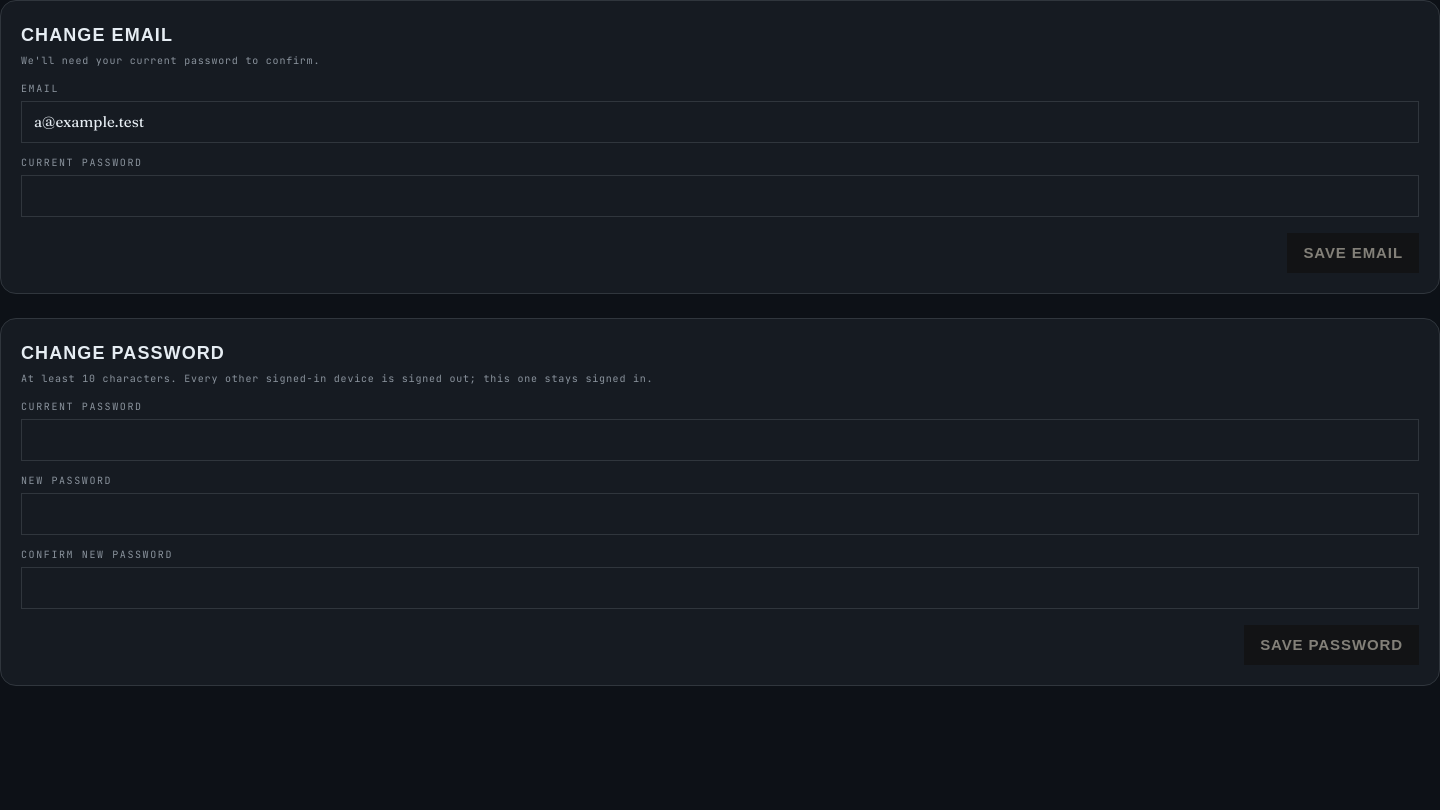
the replacement bearer is consumed › does not swap a token when the change itself failed
Type "old-password" into the password field labelled "CURRENT PASSWORD" below "Change password" at point(720, 440), box [21,419,1419,461]
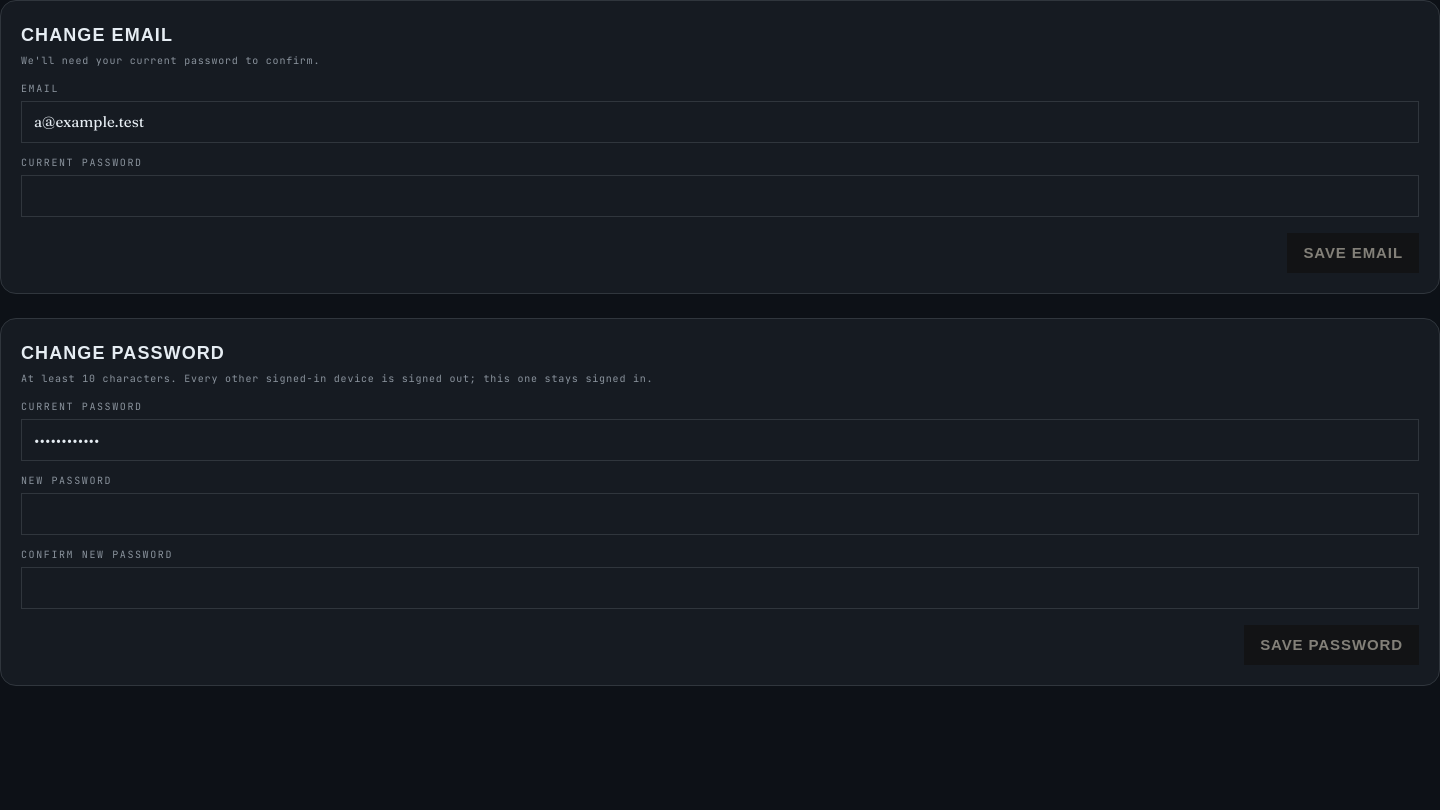
Type "a-new-password-10" into the password field labelled "NEW PASSWORD" at point(720, 514), box [21,493,1419,535]
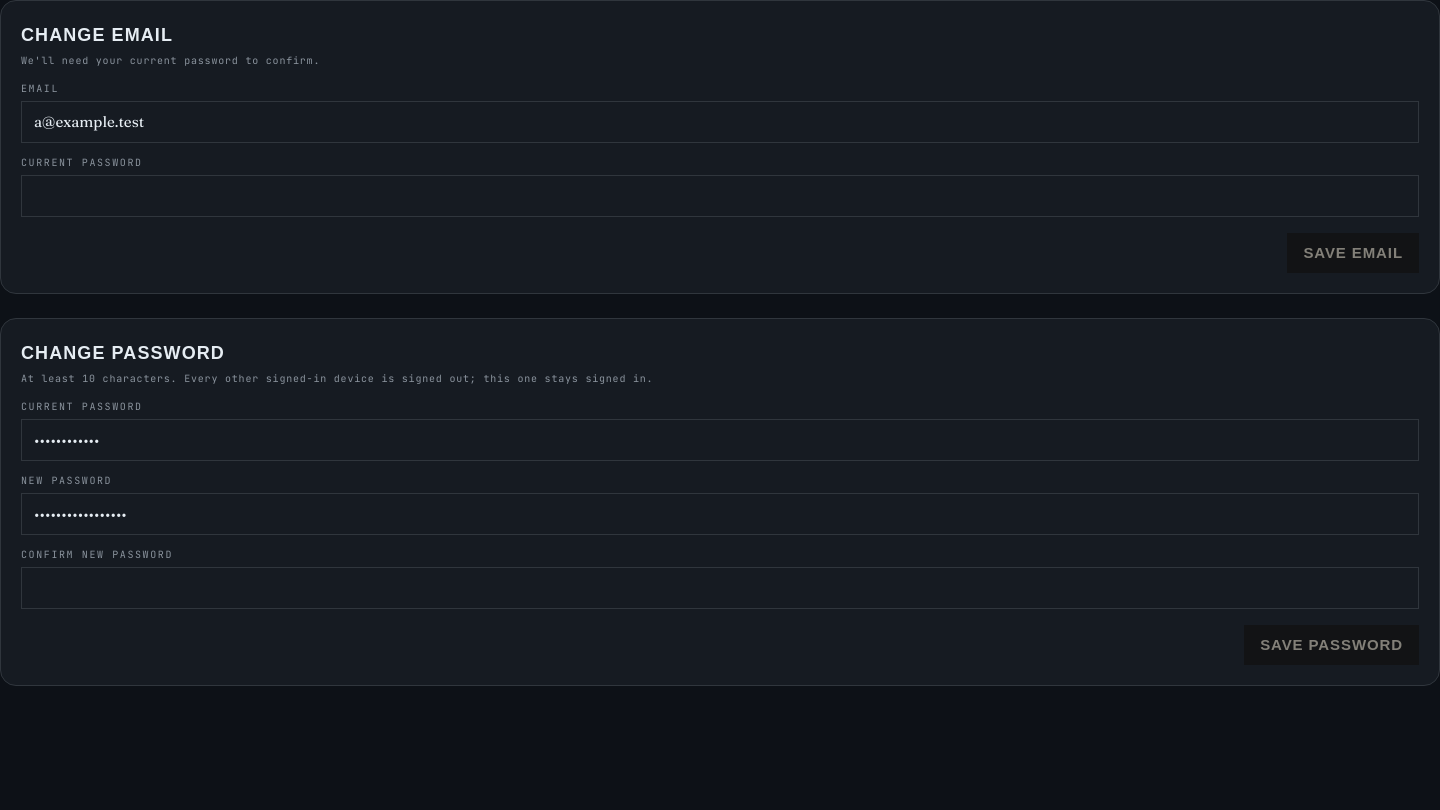
Type "a-new-password-10" into the password field labelled "CONFIRM NEW PASSWORD" at point(720, 588), box [21,567,1419,609]
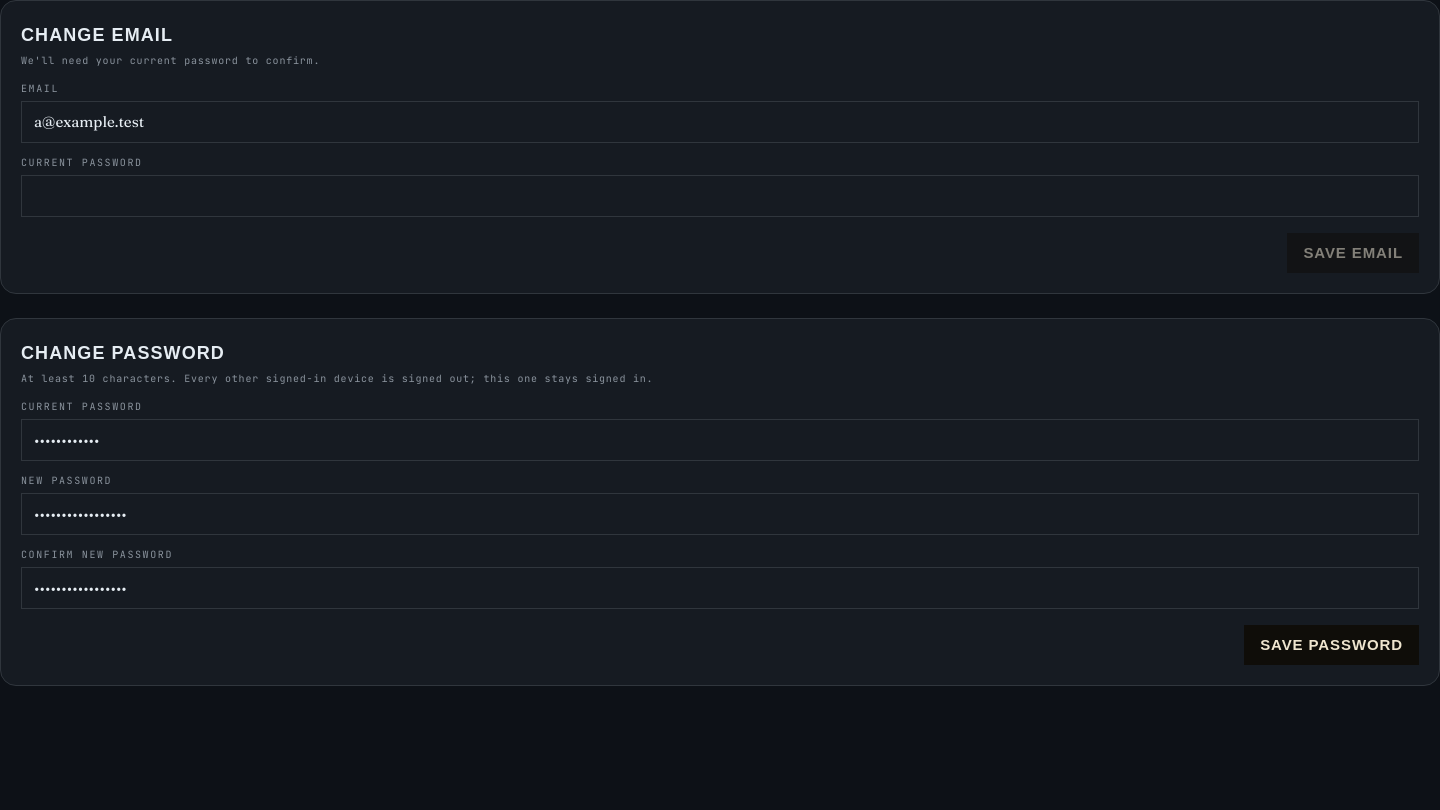
Click the button "Save password" at point(1332, 645), box [1244,625,1419,665]
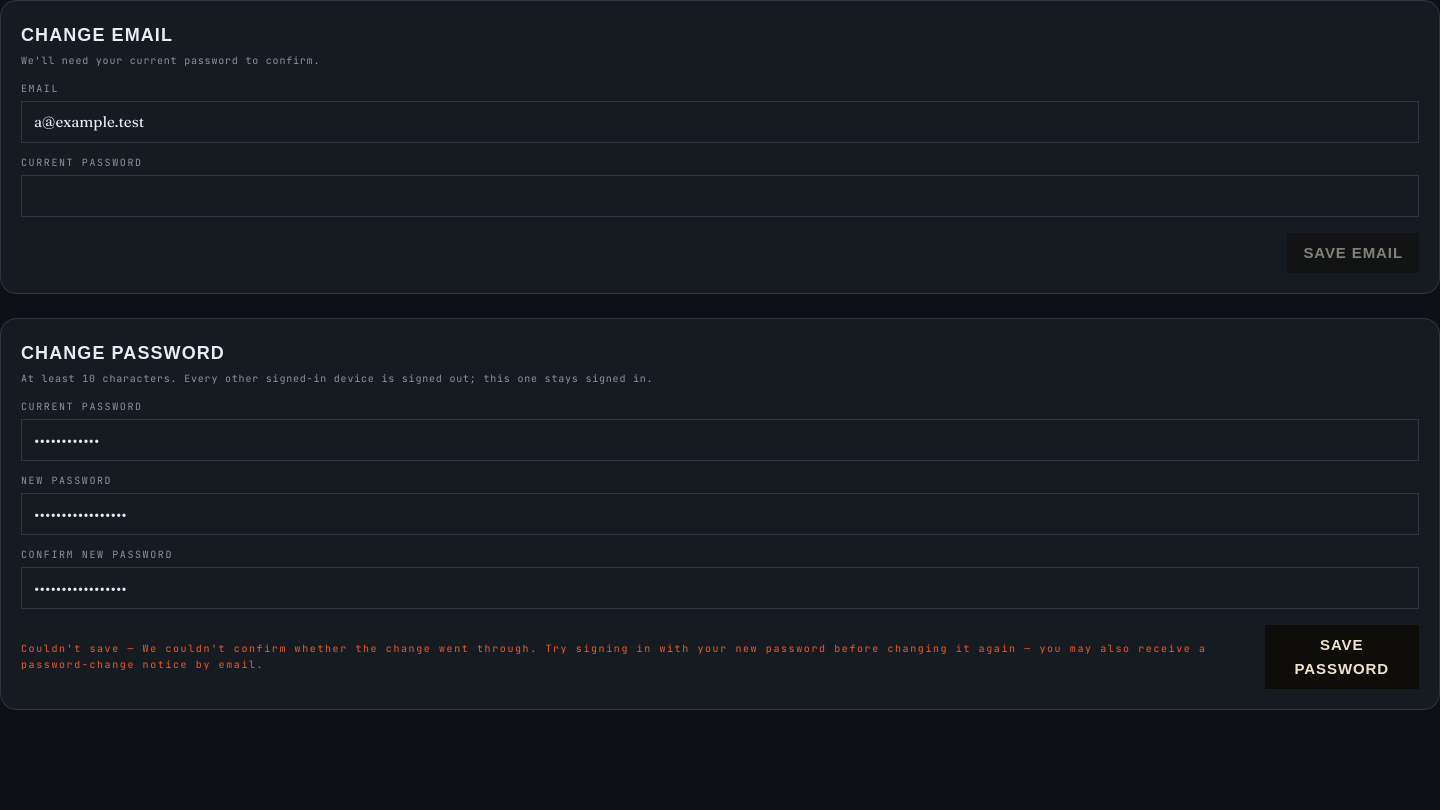
Expected: the message is shown, [21,641,1252,673]
